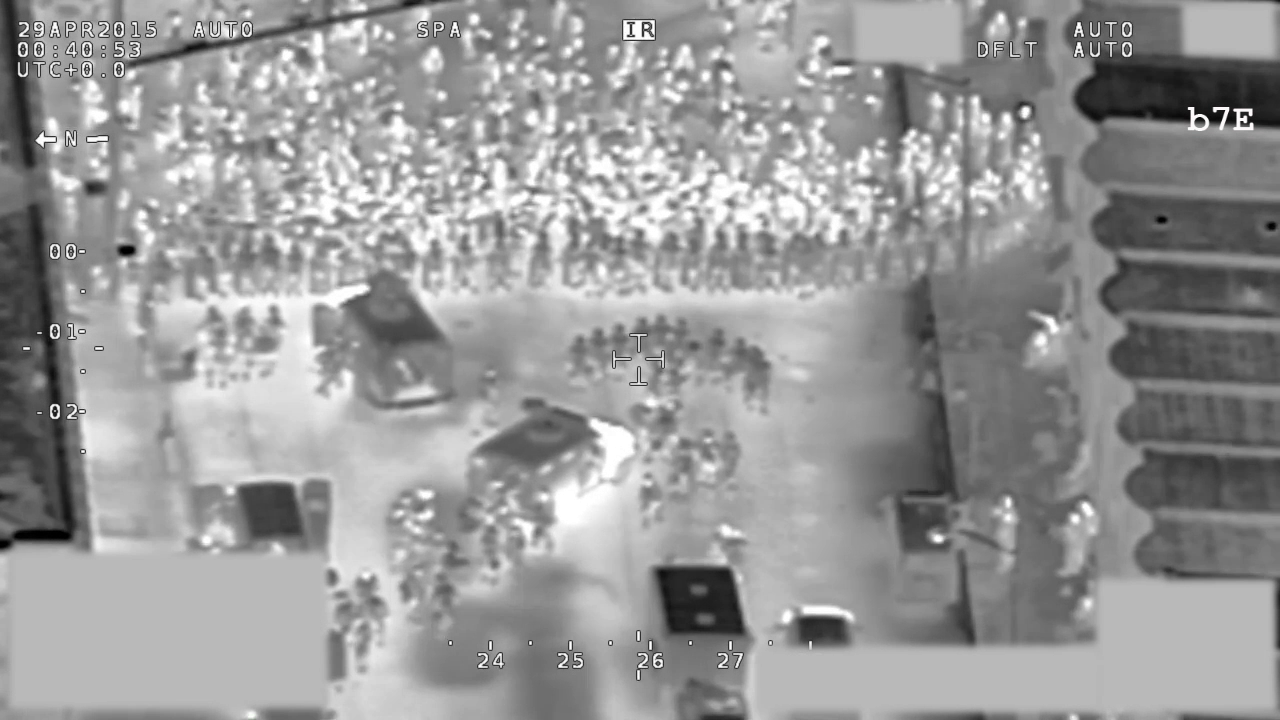vehicle: (459, 390, 643, 543), (307, 264, 455, 424), (647, 559, 759, 699), (875, 487, 977, 611)
